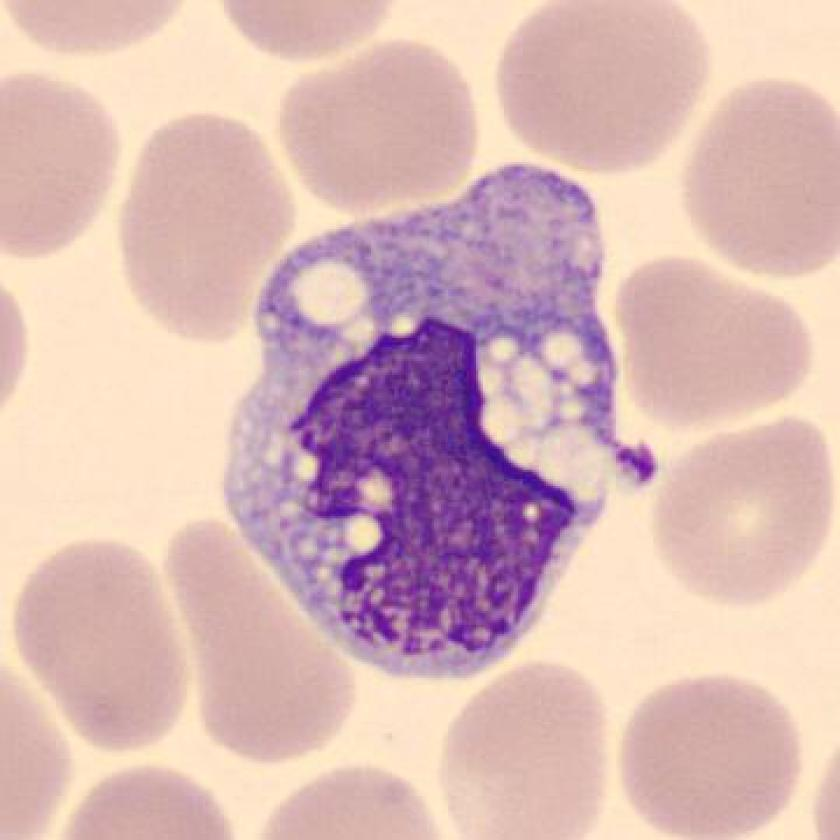monocyte: (213, 147, 678, 704)
